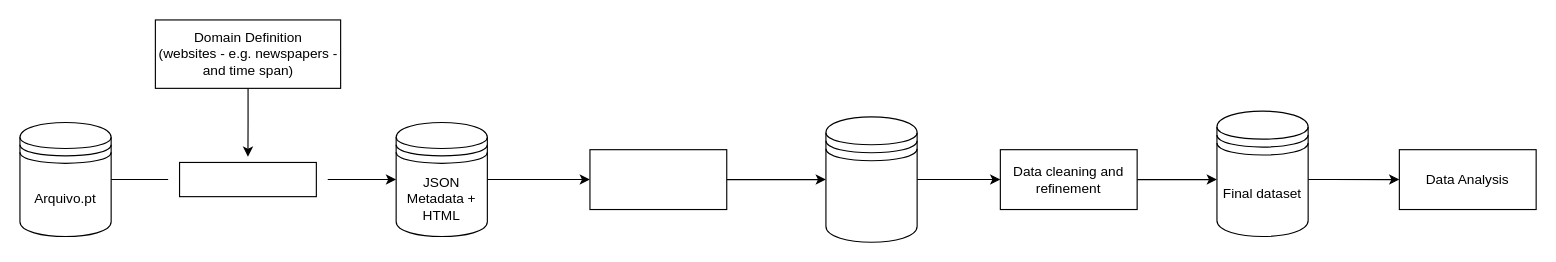
The diagram is 1556 pixels wide and 262 high, and some of its shapes have lost their labels. Here are the shapes that lost their labels. From the top down, the centre of each, then its label:
At (247,179): "HTTP API request".
At (658,179): "Scrapping of HTML content (e.g. newspaper3k)".
At (871,179): "News Database with article meta parameters".
